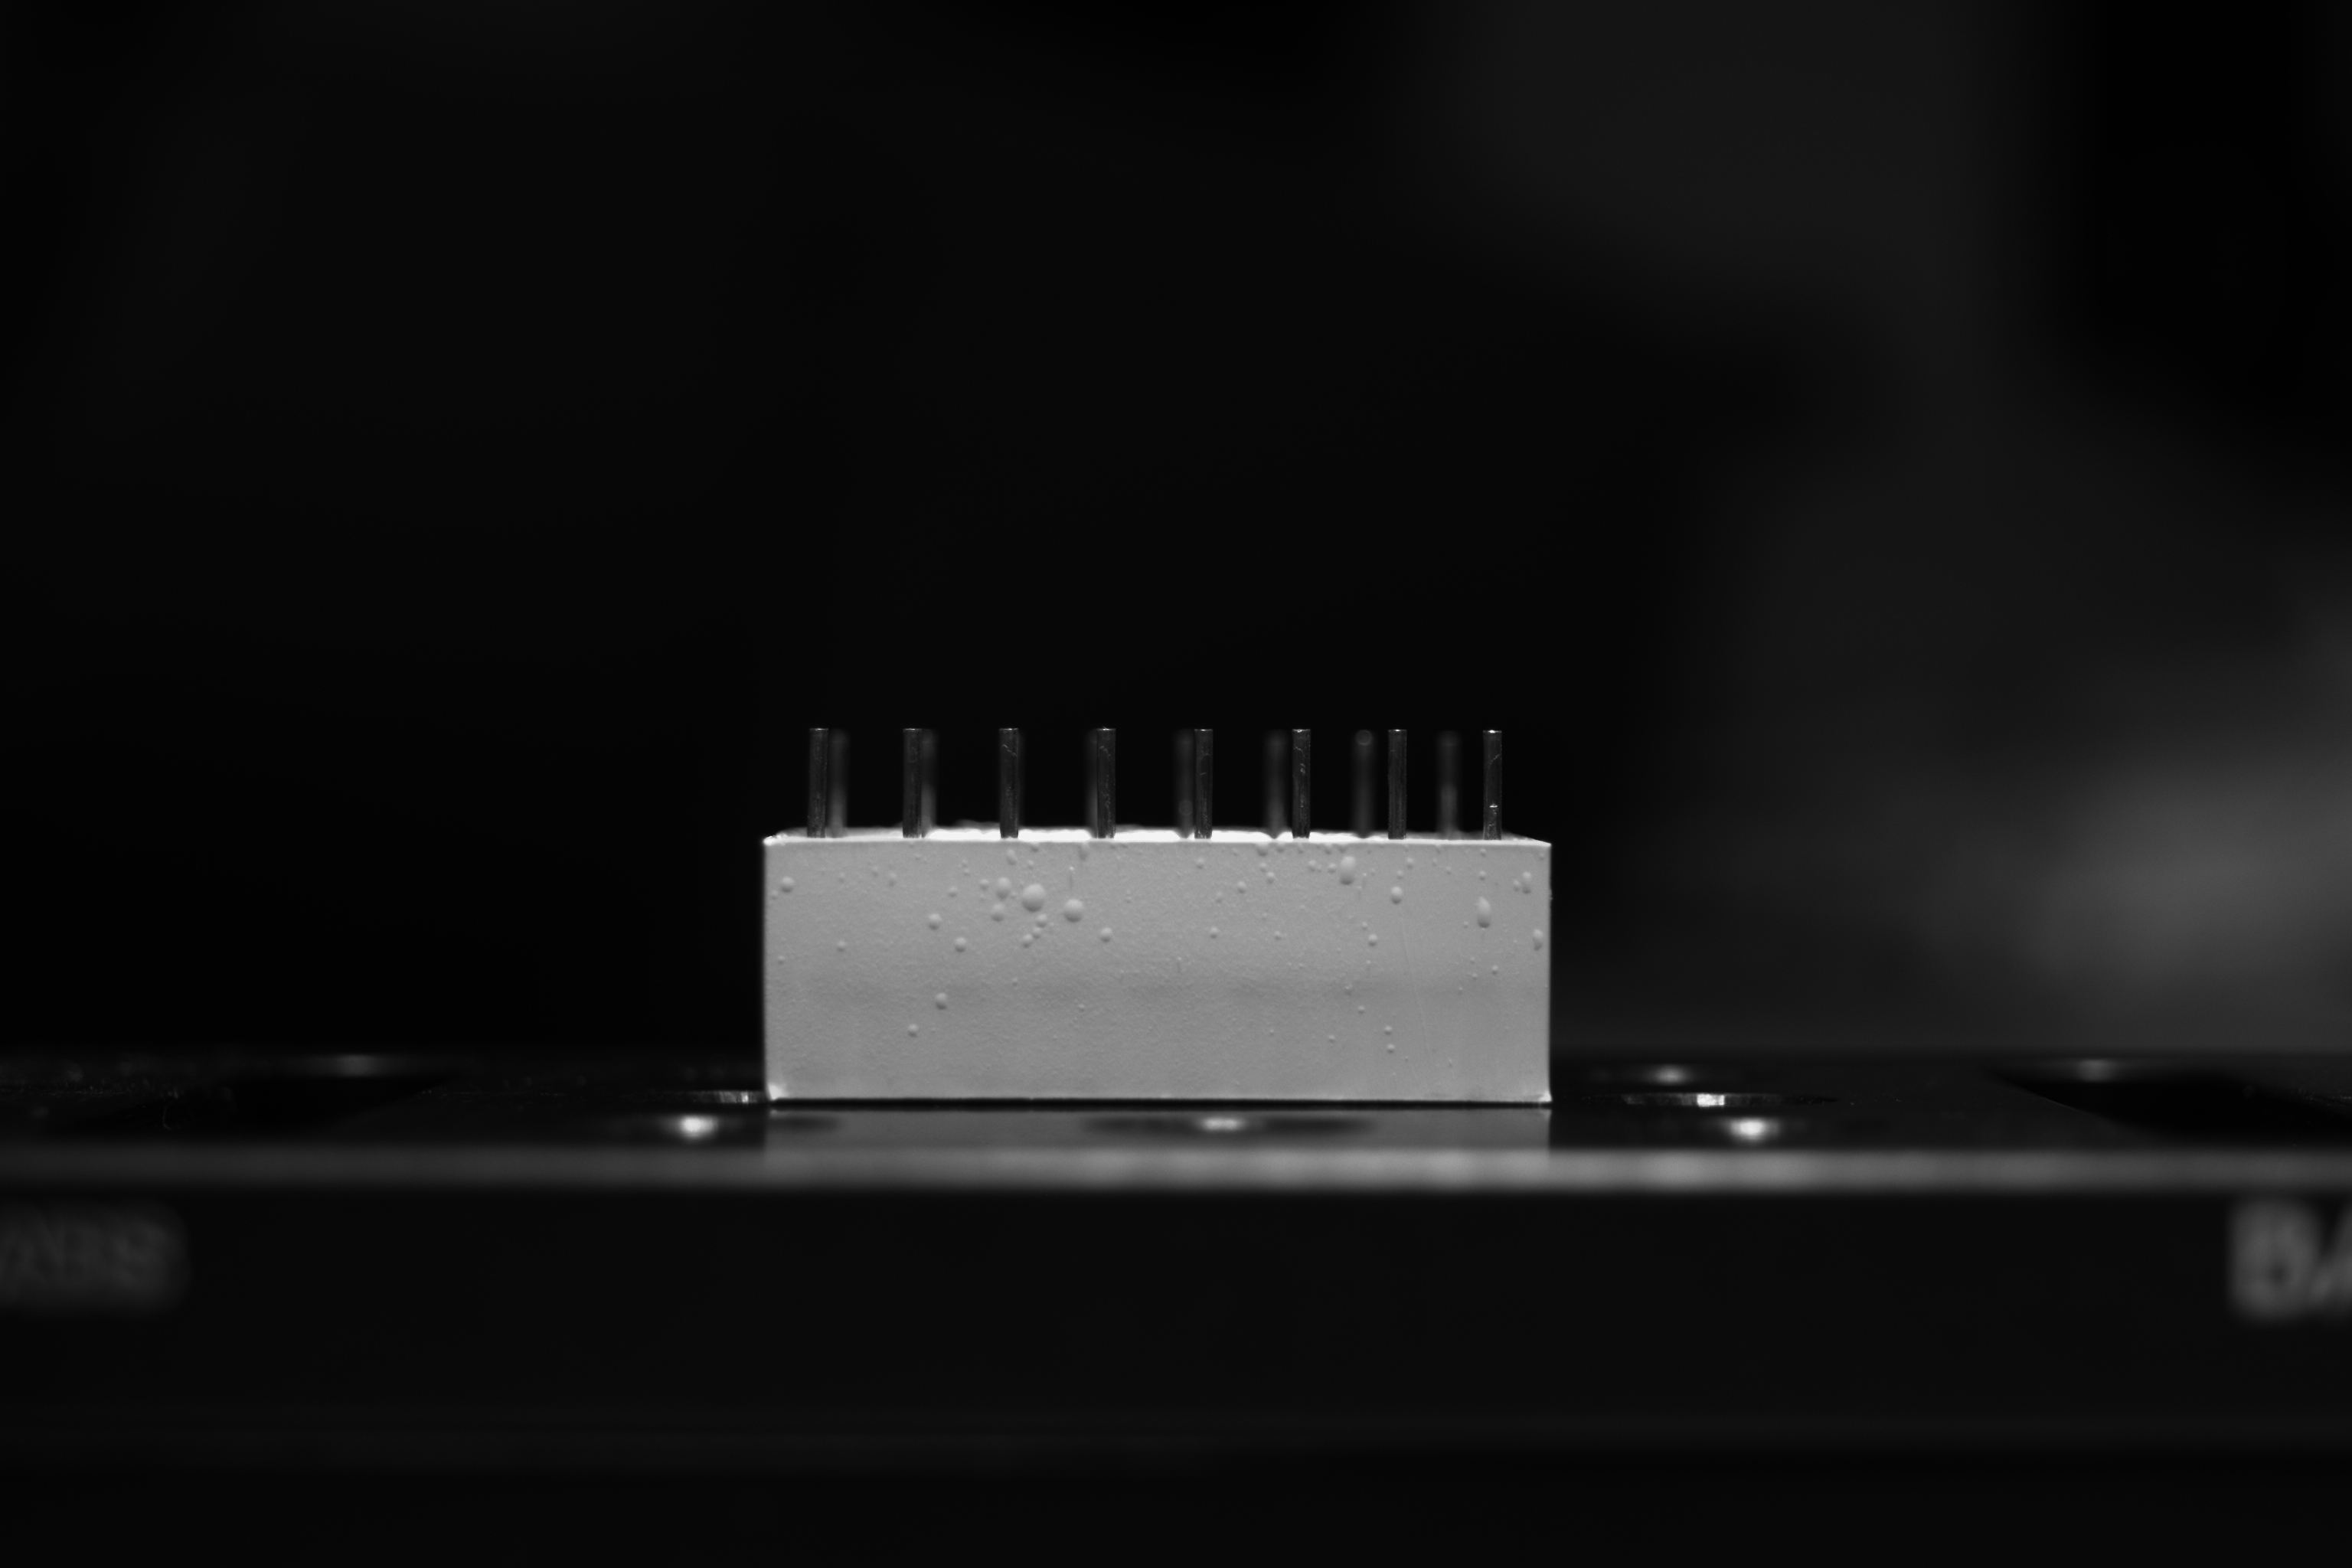glue: (919, 873, 1118, 964), (1230, 842, 1421, 910), (994, 842, 1108, 870), (772, 864, 801, 905), (1468, 892, 1496, 934), (1381, 1020, 1398, 1060), (1358, 920, 1382, 948), (1512, 870, 1536, 898), (1531, 931, 1550, 955), (1204, 924, 1225, 943), (885, 866, 901, 891), (905, 1022, 924, 1041), (933, 990, 950, 1011), (1192, 854, 1209, 871), (1325, 1031, 1340, 1048), (870, 861, 884, 880), (1487, 961, 1501, 980), (835, 938, 849, 955), (836, 870, 850, 885), (1213, 889, 1225, 906), (1270, 929, 1283, 943), (1431, 843, 1445, 856), (1536, 852, 1549, 864), (1430, 857, 1442, 870), (1344, 983, 1354, 997), (1445, 864, 1454, 877), (1479, 870, 1487, 882), (1468, 954, 1477, 966), (1480, 847, 1489, 857), (1358, 1004, 1365, 1017), (1458, 985, 1463, 994), (1472, 973, 1477, 982)
